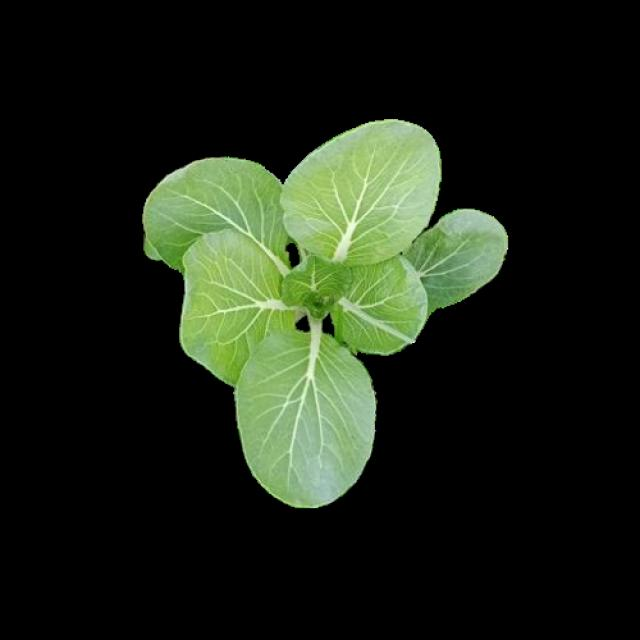healthy: (142, 118, 510, 502)
not-mature: (142, 120, 510, 504)
